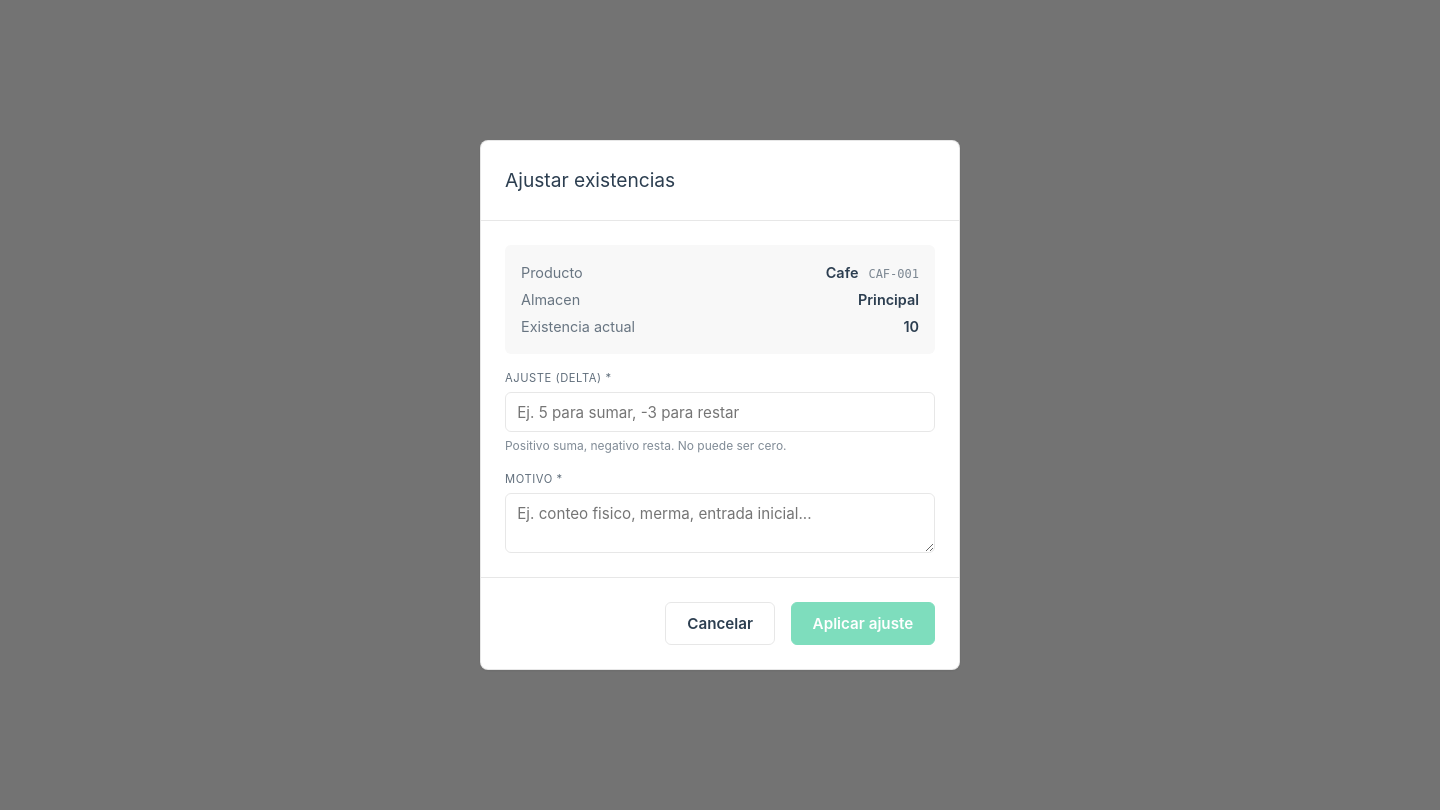
Test: AdjustStockModal › calcula la existencia resultante
This screenshot has width=1440, height=810.
Type "-3" into the field with id "a-delta". click: point(720, 412)
box: [505, 392, 935, 432]
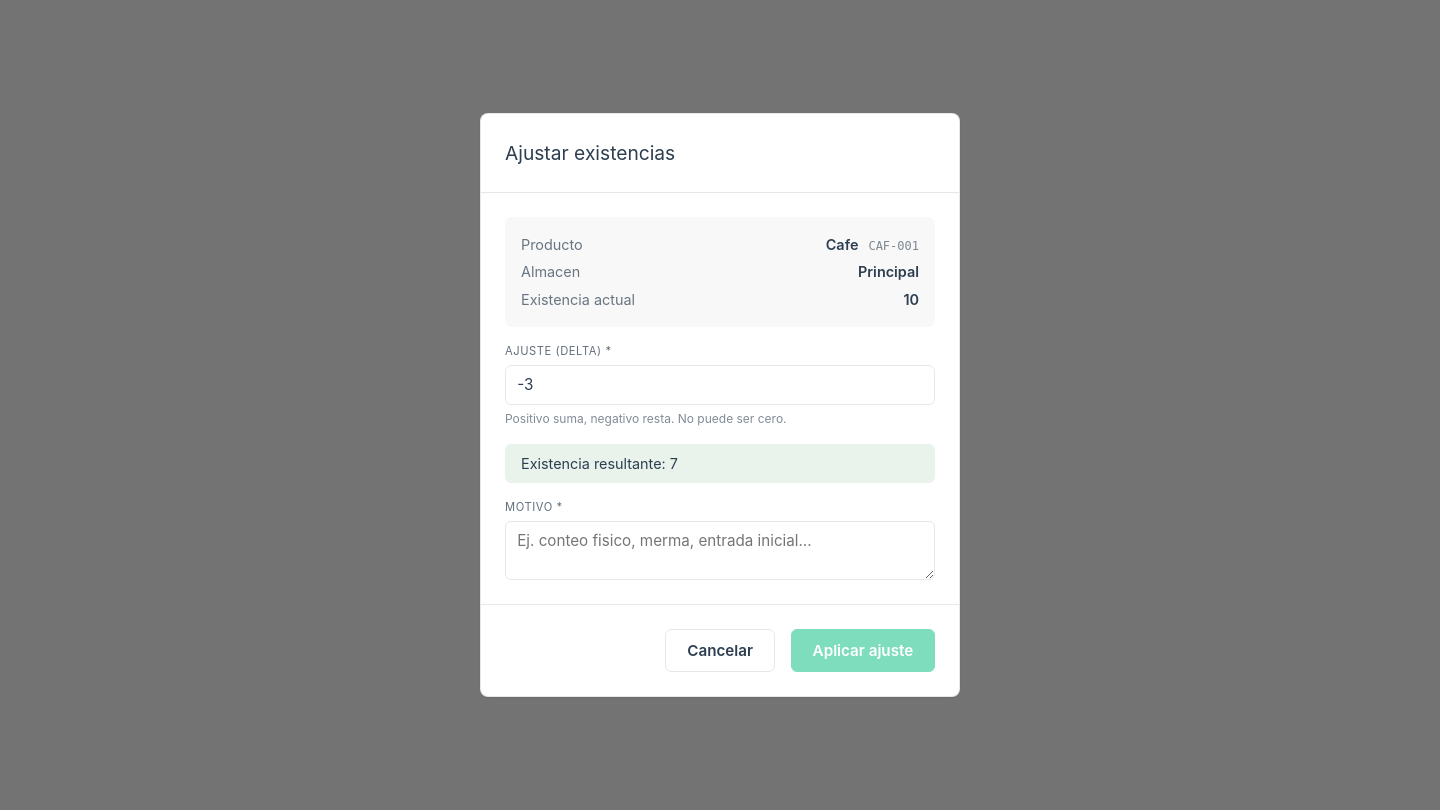
Expected: the element with class "adj-modal__preview" shows "7", [670, 455, 678, 472]
